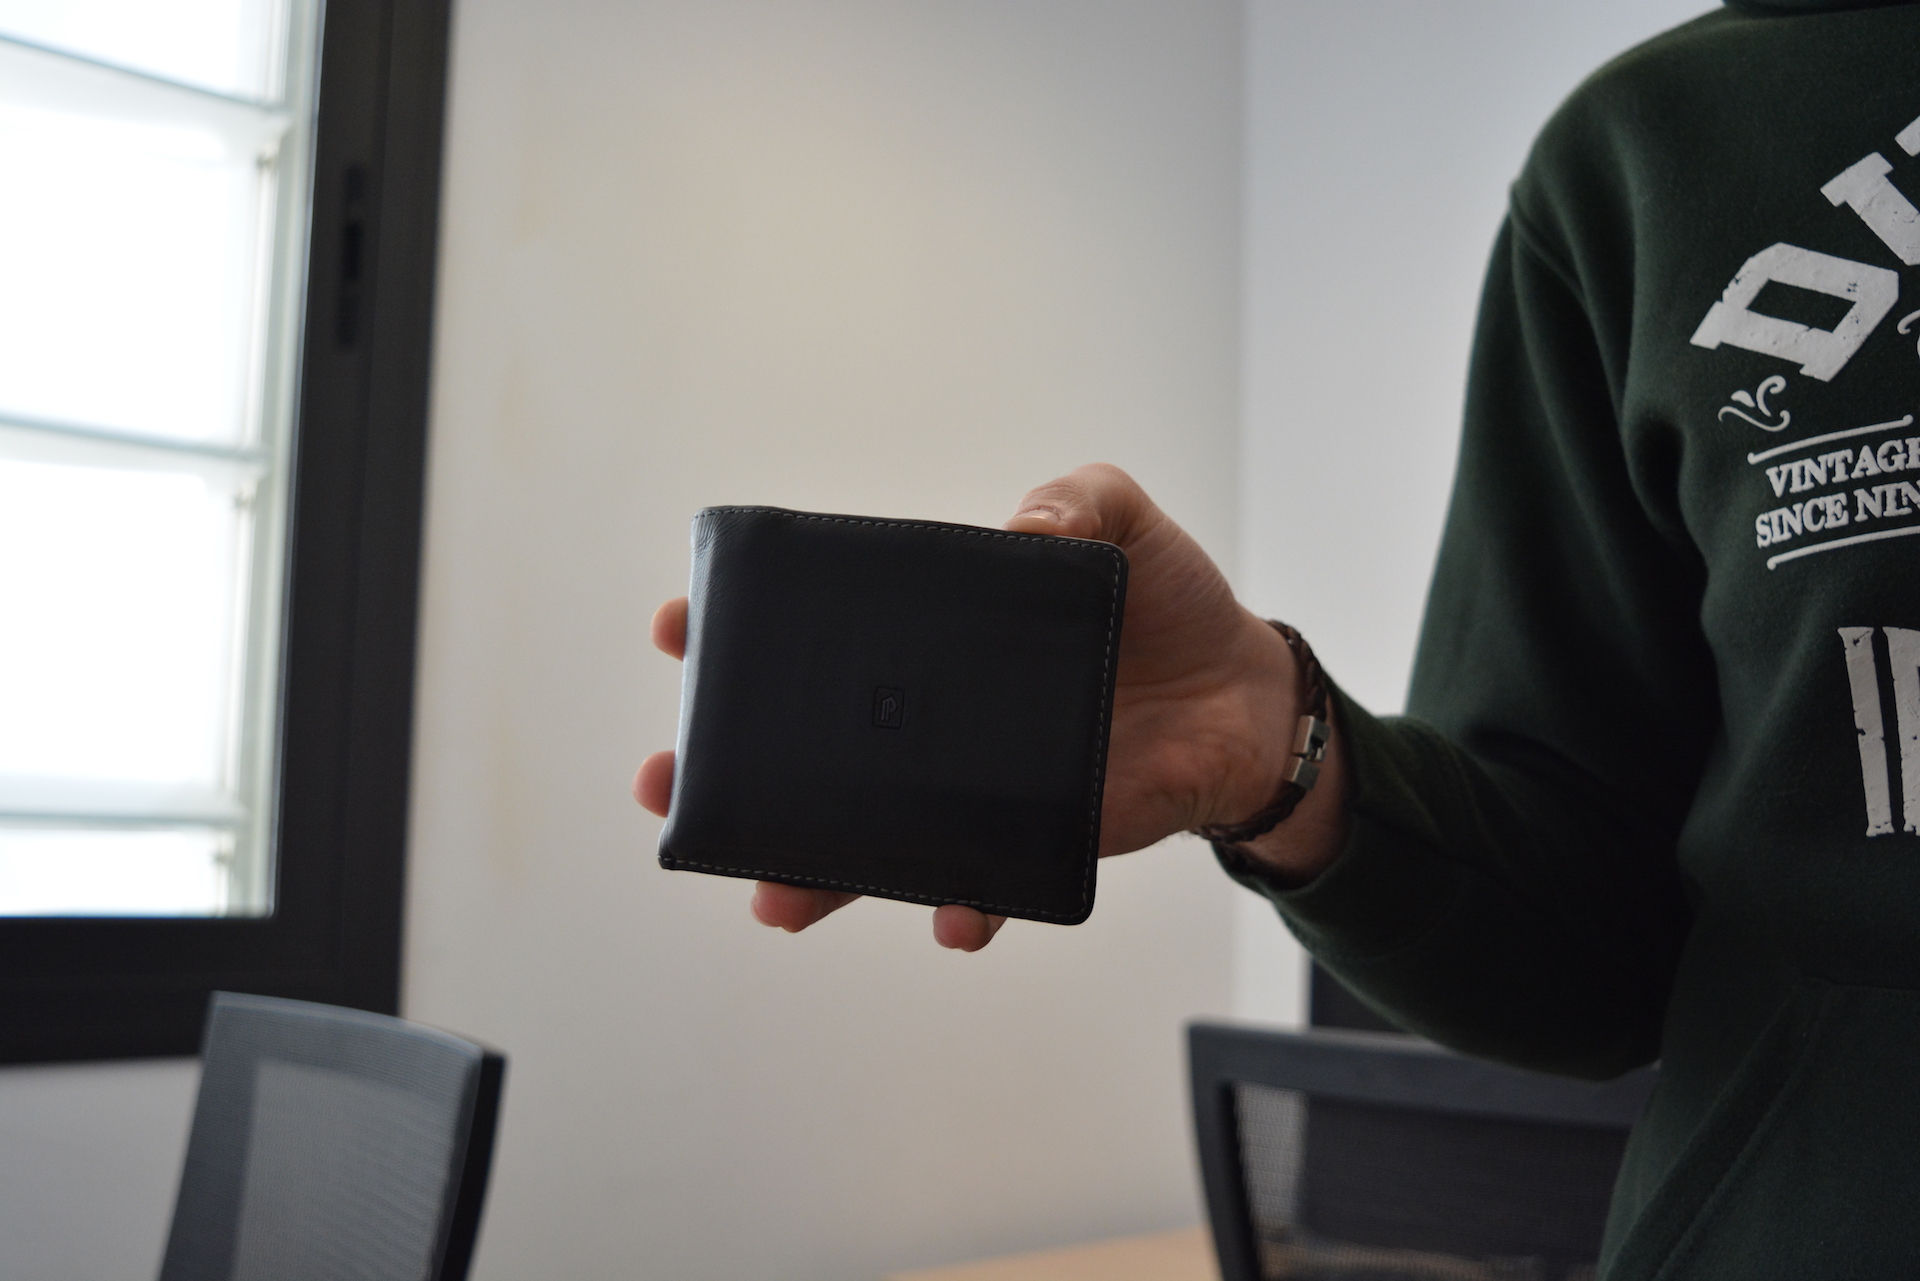monedero: (653, 502, 1132, 929)
